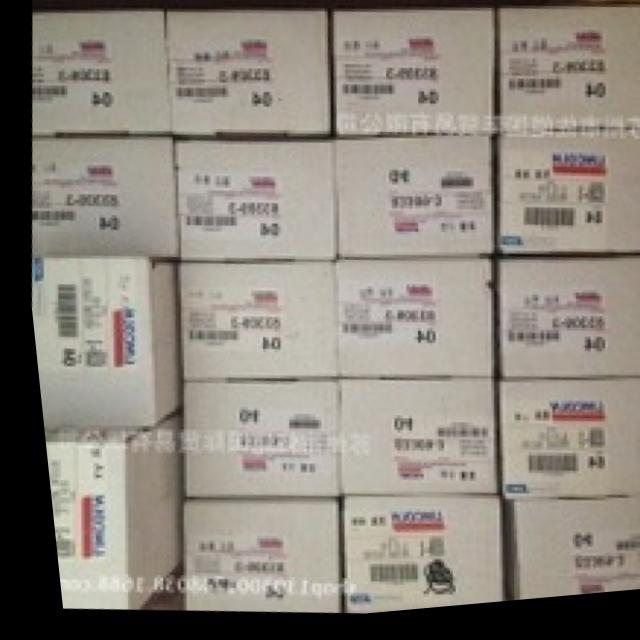box: (35, 412, 170, 608), (27, 257, 170, 429), (163, 15, 327, 140), (332, 19, 495, 144), (326, 262, 486, 386), (173, 144, 330, 265), (329, 501, 490, 617), (328, 387, 487, 504), (331, 146, 487, 264), (494, 16, 640, 142), (172, 266, 327, 383), (172, 386, 327, 503), (492, 142, 640, 263), (490, 268, 640, 387), (489, 390, 640, 508), (29, 135, 171, 260), (172, 504, 326, 613), (32, 15, 165, 135), (491, 505, 640, 609)
